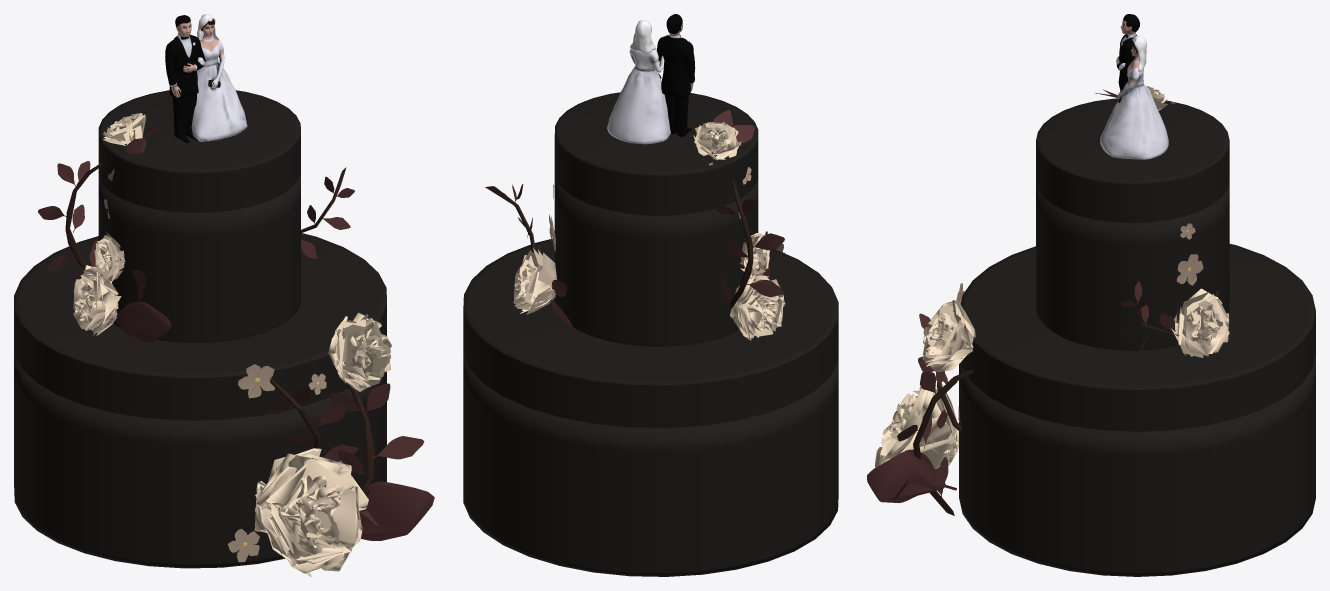
Rendered from 2-tier-black-roses-bridegroom.glb.
The picture shows the model from 3 angles, left to right: view 1: azimuth 30°, elevation 25°; view 2: azimuth 150°, elevation 25°; view 3: azimuth 270°, elevation 25°; orthographic projection. The views are drawn at different scales.
Visible parts, largest first — view 1: Cylinder.023, Cylinder.013, grid.025, 13501_Cake_Topper_Bride_Groom_v1_L1.003, grid.024, Plane.049, Plane.059, grid.026, Plane.056, Plane.058, Plane.052, Plane.045 (+4 smaller); view 2: Cylinder.023, Cylinder.013, 13501_Cake_Topper_Bride_Groom_v1_L1.003, grid.026, Plane.056, grid.028, grid.014, grid.027, Plane.045; view 3: Cylinder.023, Cylinder.013, 13501_Cake_Topper_Bride_Groom_v1_L1.003, grid.025, grid.028, Plane.049, grid.024, Plane.059, Plane.045, Plane.058.
Part boxes in pixels (box(x1,y1,x2,y2)): Cylinder.023: box(14, 233, 386, 568); Cylinder.013: box(98, 90, 300, 342); grid.025: box(254, 448, 368, 576); 13501_Cake_Topper_Bride_Groom_v1_L1.003: box(165, 14, 247, 143); grid.024: box(328, 312, 391, 391); Plane.049: box(359, 481, 434, 540); Plane.059: box(330, 383, 424, 526); grid.026: box(73, 264, 121, 335); Plane.056: box(38, 161, 102, 271); Plane.058: box(267, 378, 358, 461); Plane.052: box(115, 301, 171, 342); Plane.045: box(301, 167, 354, 258); Cylinder.023: box(463, 239, 838, 576); Cylinder.013: box(554, 92, 758, 346); 13501_Cake_Topper_Bride_Groom_v1_L1.003: box(607, 14, 695, 144); grid.026: box(730, 275, 785, 340); Plane.056: box(712, 179, 784, 308); grid.028: box(513, 248, 556, 314); grid.014: box(693, 122, 741, 160); grid.027: box(740, 233, 769, 280); Plane.045: box(485, 184, 541, 254); Cylinder.023: box(959, 244, 1315, 576); Cylinder.013: box(1036, 98, 1229, 350); 13501_Cake_Topper_Bride_Groom_v1_L1.003: box(1100, 14, 1168, 159); grid.025: box(875, 383, 958, 468); grid.028: box(1171, 288, 1229, 357); Plane.049: box(867, 449, 956, 502); grid.024: box(922, 300, 975, 371); Plane.059: box(893, 369, 973, 515); Plane.045: box(1119, 281, 1179, 353); Plane.058: box(918, 313, 961, 432).
Size of the model in its own units: 3.4 by 4.92 by 4.11.
Materials: 7 (1 with a texture image).
